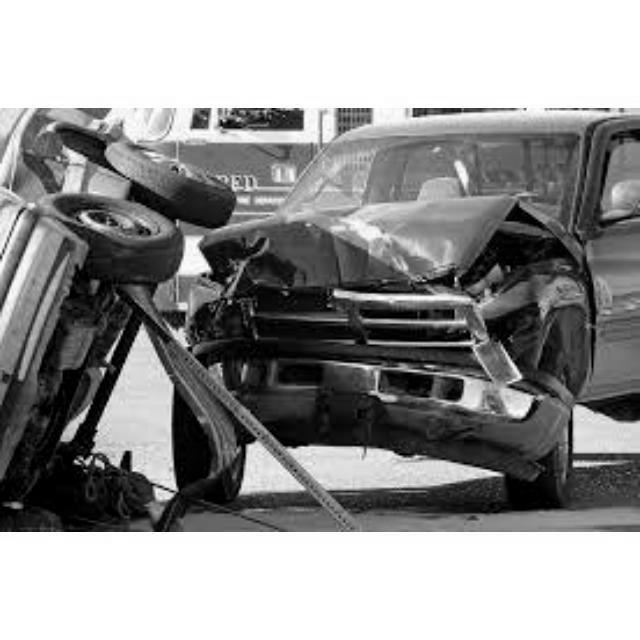bonnet-dent: (209, 185, 547, 298)
fender-dent: (506, 243, 596, 338)
front-bumper-dent: (237, 282, 471, 414)
